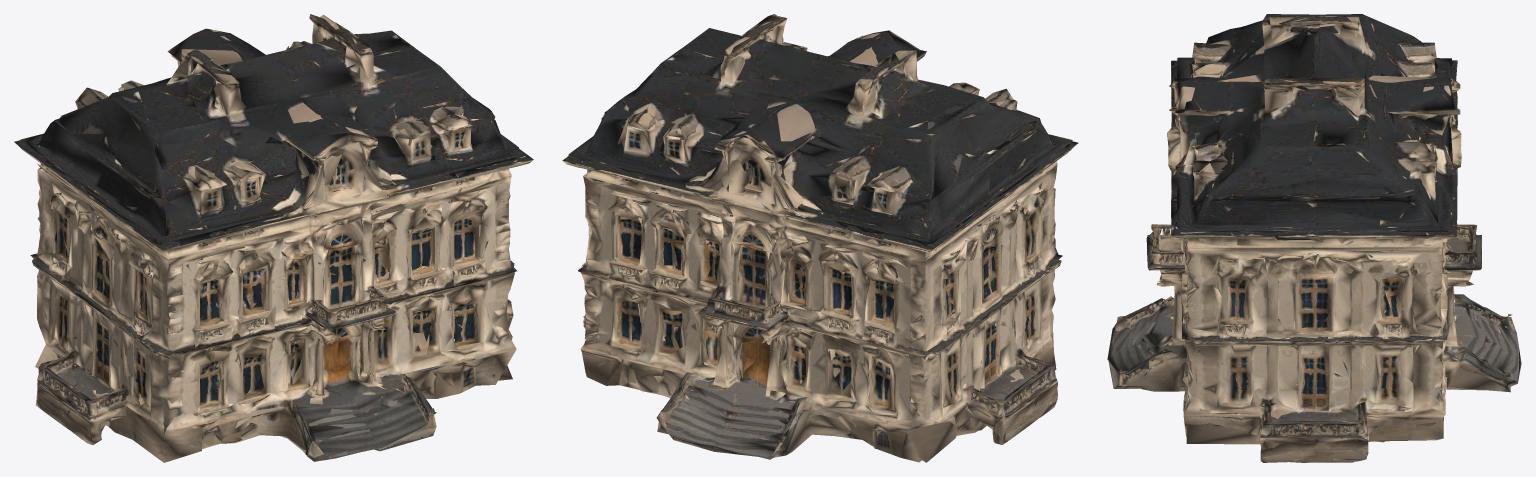
Rendered from haus-4.glb.
The picture shows the model from 3 angles, left to right: view 1: azimuth 30°, elevation 25°; view 2: azimuth 150°, elevation 25°; view 3: azimuth 270°, elevation 25°; orthographic projection. The views are drawn at different scales.
Size of the model in its own units: 1.9 by 1.4 by 1.66.
Materials: 1 (1 with a texture image).
